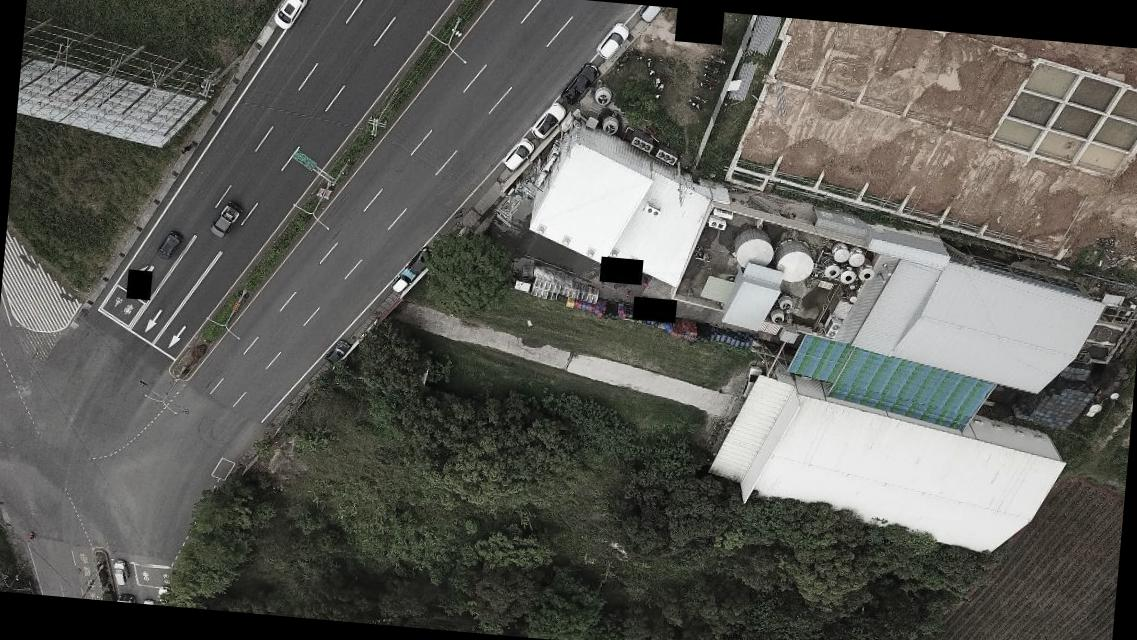vehicle: (561, 65, 599, 106), (530, 103, 566, 143), (595, 21, 629, 63), (270, 0, 310, 35), (210, 201, 243, 242), (152, 227, 184, 265), (503, 139, 534, 173), (406, 247, 436, 276), (740, 363, 763, 400), (325, 337, 350, 368), (388, 270, 414, 294), (638, 5, 666, 26)
